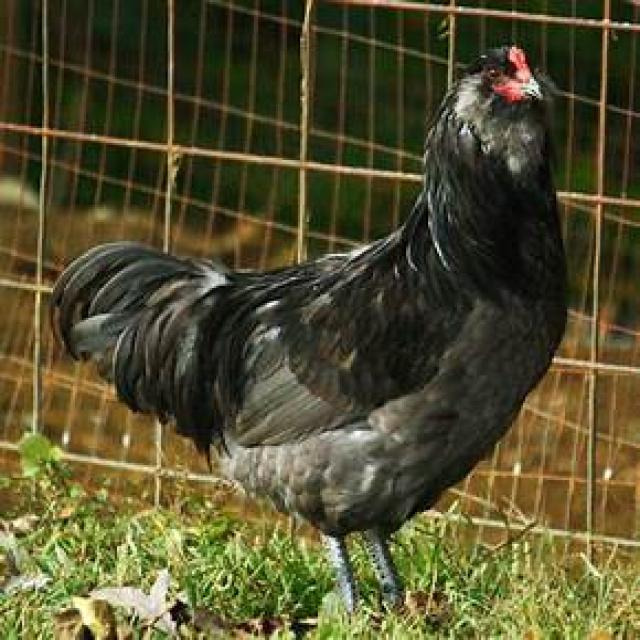hen: (49, 47, 567, 617)
